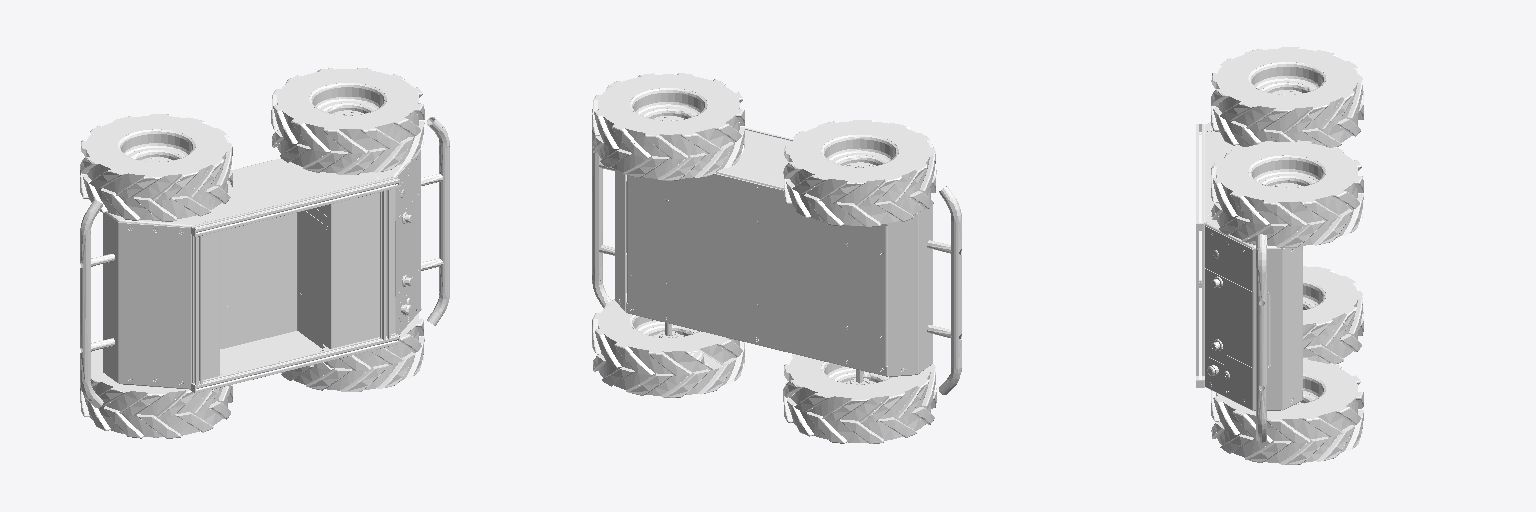
File: ugv.obj
The picture shows the model from 3 angles: view 1: azimuth 30°, elevation 25°; view 2: azimuth 150°, elevation 25°; view 3: azimuth 270°, elevation 25°; orthographic projection.
Parts seen in each view (by area): view 1: Husky_3D_Model_body69; view 2: Husky_3D_Model_body69; view 3: Husky_3D_Model_body69.
Boxes of the visible parts, x1,y1,x2,y2 form: Husky_3D_Model_body69: [80, 68, 449, 438]; Husky_3D_Model_body69: [592, 73, 961, 443]; Husky_3D_Model_body69: [1196, 47, 1363, 464].
Size of the model in its own units: 98.74 by 66.94 by 38.92.